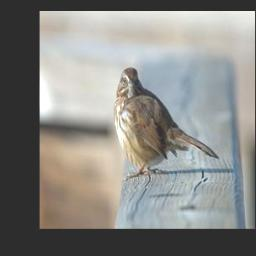Sparrow: (114, 67, 219, 179)
